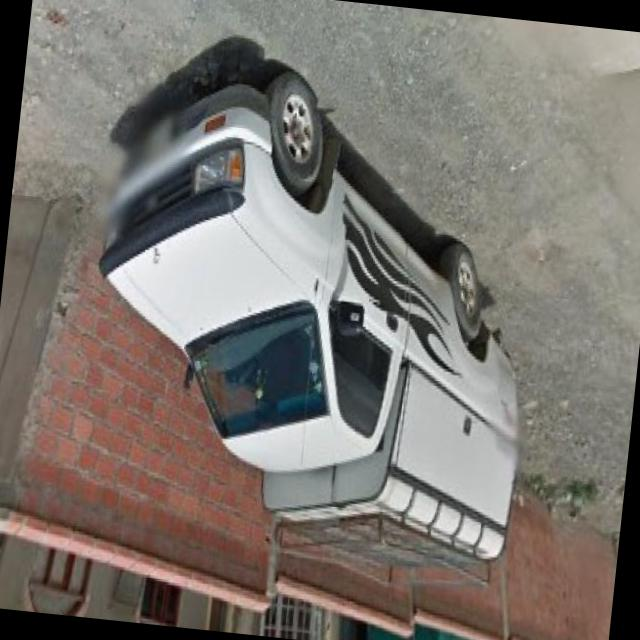car: (63, 82, 555, 586)
